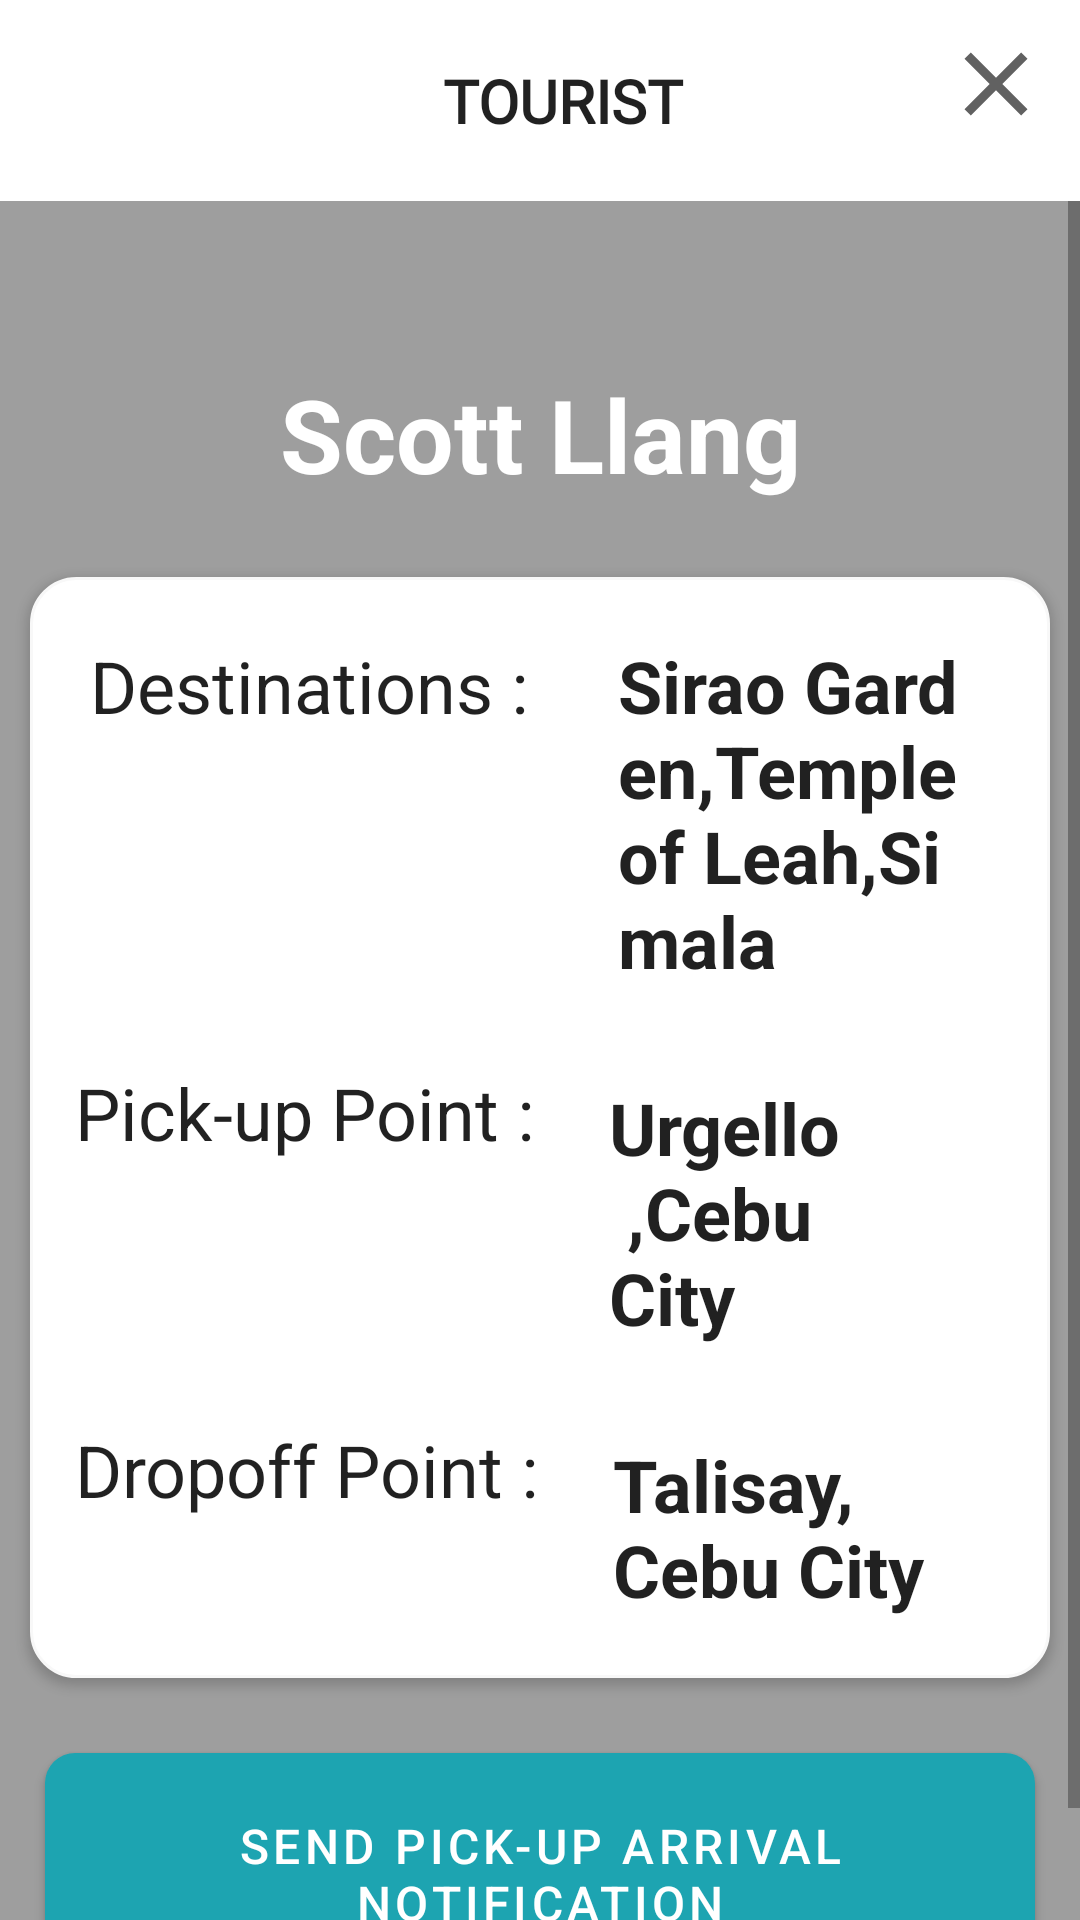

Locate icon controls on the screen. Image size 1080×1920, boxes as bbox=(x1, y1, x2, y2).
close: bbox=(964, 52, 1028, 116)
